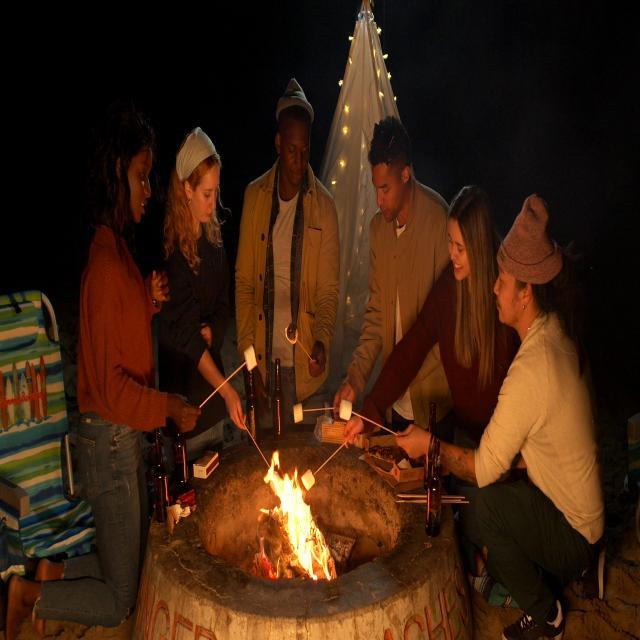Fire: (265, 463, 334, 587)
